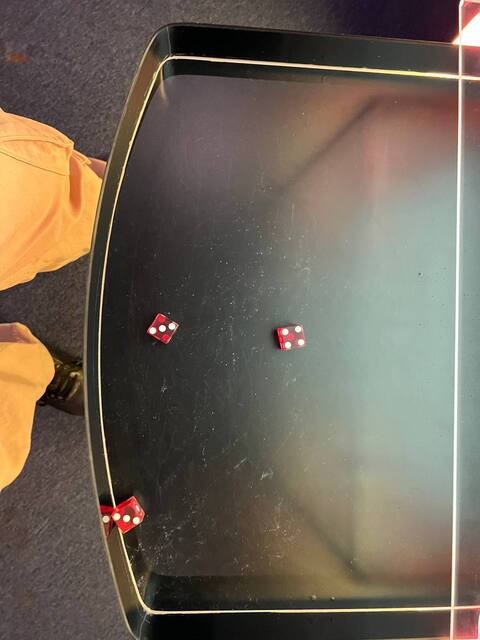four: (272, 320, 309, 353)
three: (106, 501, 146, 534), (144, 311, 181, 346)
